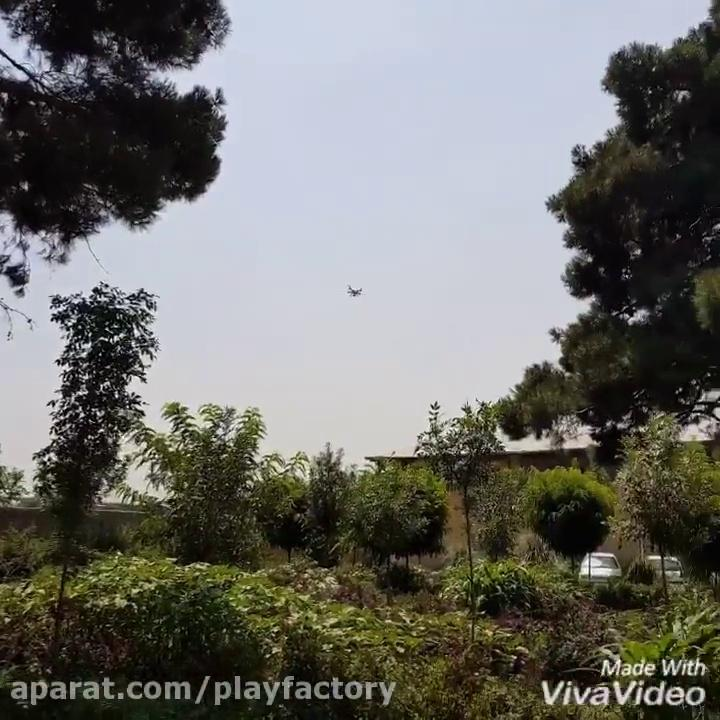drone: (339, 273, 370, 302)
